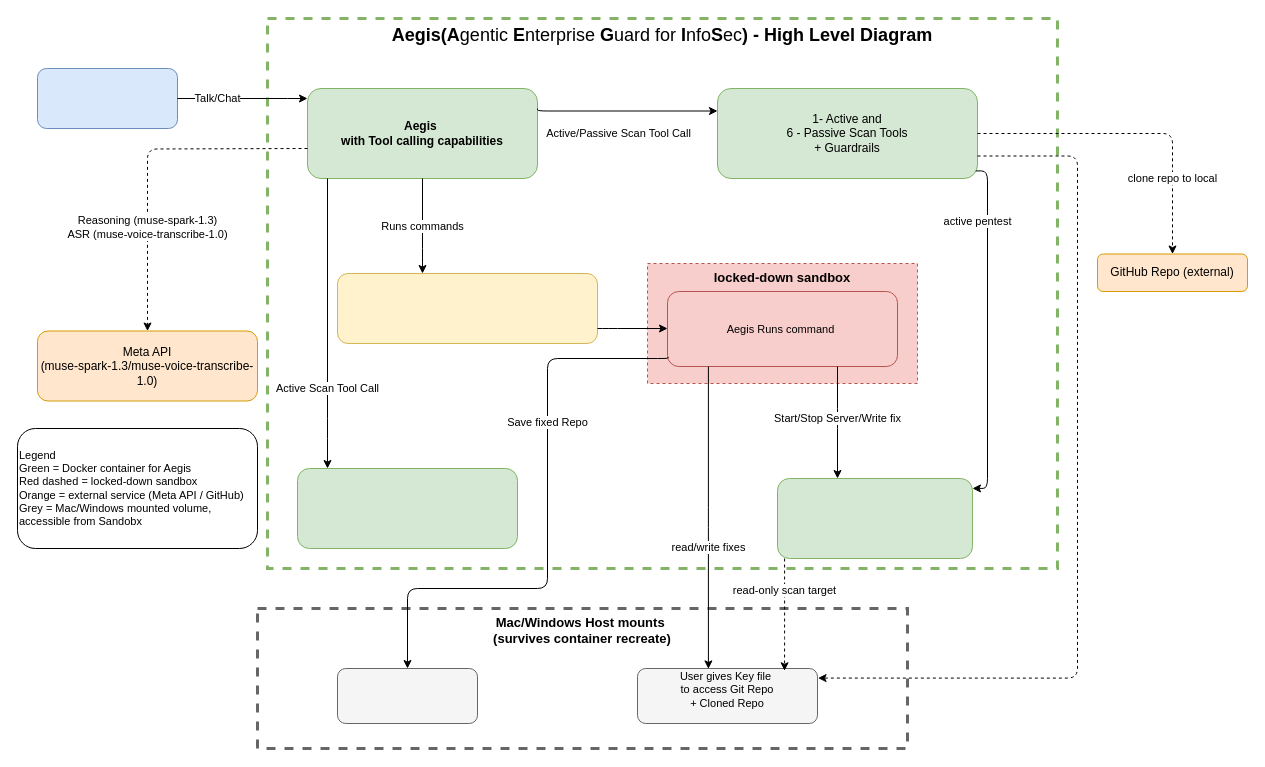
Image size: 1265x767. Some labels were removed from this diagram. The centre of each missing label's shape, as x and y in pixels:
"Cloned Repo at www.sandbox.com:8900 (for pentest)" goes at pixel 874 518.
"Fixed Repo code is here" goes at pixel 407 696.
"sandbox-proxy" goes at pixel 467 308.
"Tool to Scan liveness of 3rd-party URL" goes at pixel 407 508.
"User (Browser)" goes at pixel 107 98.
